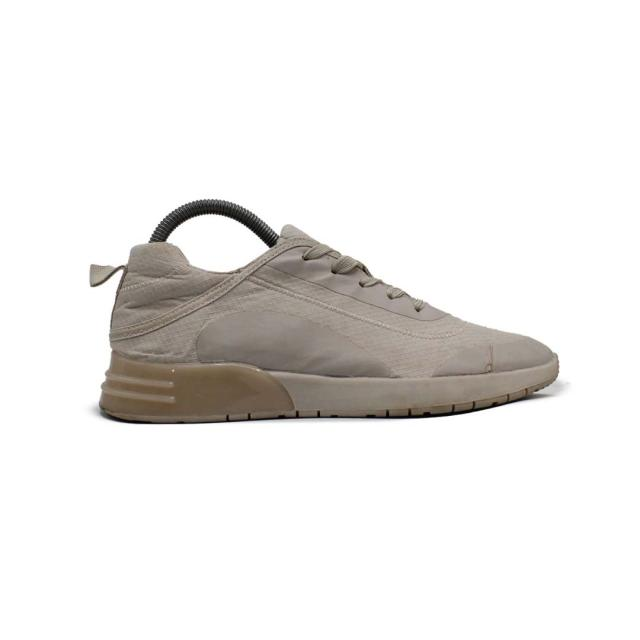heel: (84, 222, 150, 363)
midsole: (105, 354, 567, 422)
uppersole: (152, 233, 572, 377)
